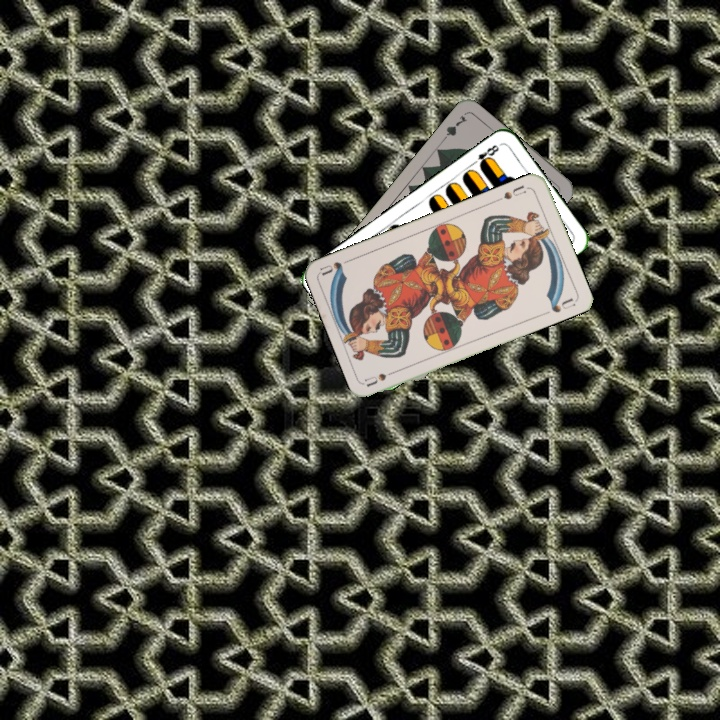E8: (467, 141, 502, 170)
G7: (437, 111, 470, 145)
SU: (362, 365, 402, 389), (493, 181, 532, 204)
